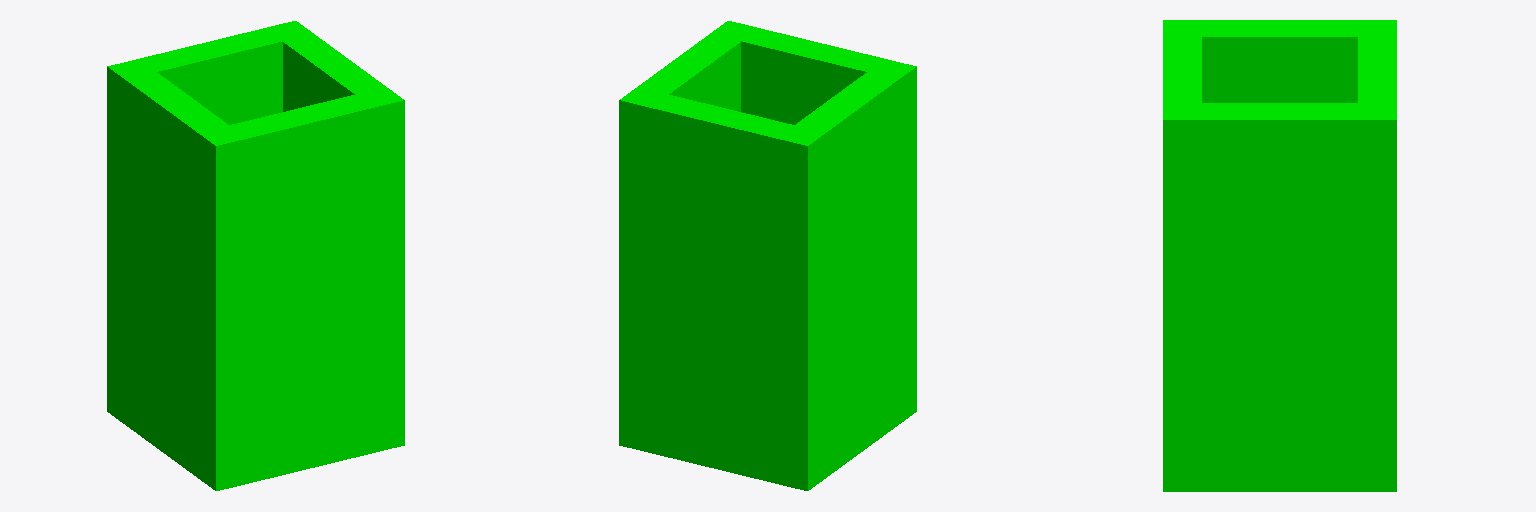
URDF robot description (root):
<?xml version="0.0" ?>
<robot name="root">
  <link name="base">
    <inertial>
      <origin rpy="0 0 0" xyz="0 0 0"/>
      <mass value="0.001"/>
      <inertia ixx="-4.46E-06" ixy="-4.55E-07" ixz="1.95E-06" iyy="-2.47E-06" iyz="8.51E-08" izz="2.17E-06"/>
    </inertial>
    <visual>
      <origin rpy="0 0 0" xyz="0 0 -0.05"/>
      <geometry>
        <box size=".06 .06 0.01"/>
      </geometry>
      <material name="green">
      </material> 
    </visual>
    <collision>
      <origin rpy="0 0 0" xyz="0 0 -0.05"/>
      <geometry>
        <box size=".06 .06 0.01"/>
      </geometry>
    </collision>
  </link>

  <link name="left">
    <inertial>
      <origin rpy="0 0 0" xyz="0 0 0"/>
      <mass value="0.001"/>
      <inertia ixx="-4.46E-06" ixy="-4.55E-07" ixz="1.95E-06" iyy="-2.47E-06" iyz="8.51E-08" izz="2.17E-06"/>
    </inertial>
    <visual>
      <origin rpy="0 0 0" xyz="0.025 0.0 0"/>
      <geometry>
        <box size=".01 .06 0.1"/>
      </geometry>
      <material name="green">
      </material> 
    </visual>
    <collision>
      <origin rpy="0 0 0" xyz="0 0 0"/>
      <geometry>
        <box size=".01 .06 0.1"/>
      </geometry>
    </collision>
  </link>

  <joint name="left_joint" type="fixed">
    <origin rpy="0 0 0" xyz="0 0 0"/>
    <parent link="base"/>
    <child link="left"/>
  </joint>

  <link name="right">
    <inertial>
      <origin rpy="0 0 0" xyz="0 0 0"/>
      <mass value="0.001"/>
      <inertia ixx="-4.46E-06" ixy="-4.55E-07" ixz="1.95E-06" iyy="-2.47E-06" iyz="8.51E-08" izz="2.17E-06"/>
    </inertial>
    <visual>
      <origin rpy="0 0 0" xyz="-0.025 0.0 0"/>
      <geometry>
        <box size=".01 .06 0.1"/>
      </geometry>
      <material name="green">
      </material> 
    </visual>
    <collision>
      <origin rpy="0 0 0" xyz="-0.025 0 0"/>
      <geometry>
        <box size=".01 .06 0.1"/>
      </geometry>
    </collision>
  </link>

  <joint name="right_joint" type="fixed">
    <origin rpy="0 0 0" xyz="0 0 0"/>
    <parent link="base"/>
    <child link="right"/>
  </joint>

  <link name="front">
    <inertial>
      <origin rpy="0 0 0" xyz="0 0 0"/>
      <mass value="0.001"/>
      <inertia ixx="-4.46E-06" ixy="-4.55E-07" ixz="1.95E-06" iyy="-2.47E-06" iyz="8.51E-08" izz="2.17E-06"/>
    </inertial>
    <visual>
      <origin rpy="0 0 0" xyz="0 0.025 0"/>
      <geometry>
        <box size=".06 .01 0.1"/>
      </geometry>
      <material name="green">
      </material> 
    </visual>
    <collision>
      <origin rpy="0 0 0" xyz="0 0.025 0"/>
      <geometry>
        <box size=".06 .01 0.1"/>
      </geometry>
    </collision>
  </link>

  <joint name="front_joint" type="fixed">
    <origin rpy="0 0 0" xyz="0 0 0"/>
    <parent link="base"/>
    <child link="front"/>
  </joint>

  <link name="rear">
    <inertial>
      <origin rpy="0 0 0" xyz="0 0 0"/>
      <mass value="0.001"/>
      <inertia ixx="-4.46E-06" ixy="-4.55E-07" ixz="1.95E-06" iyy="-2.47E-06" iyz="8.51E-08" izz="2.17E-06"/>
    </inertial>
    <visual>
      <origin rpy="0 0 0" xyz="0 -0.025 0"/>
      <geometry>
        <box size=".06 .01 0.1"/>
      </geometry>
      <material name="green">
      </material> 
    </visual>
    <collision>
      <origin rpy="0 0 0" xyz="0 -0.025 0"/>
      <geometry>
        <box size=".06 .01 0.1"/>
      </geometry>
    </collision>
  </link>

  <joint name="rear_joint" type="fixed">
    <origin rpy="0 0 0" xyz="0 0 0"/>
    <parent link="base"/>
    <child link="rear"/>
  </joint>


  <material name="panda_white">
    <color rgba="1. 1. 1. 1."/>
  </material>
  <material name="red">
    <color rgba="1.0 0. 0. 1.0"/>
  </material>
  <material name="blue">
    <color rgba="0. 0. 1. 1.0"/>
  </material>
  <material name="green">
    <color rgba="0. 1. 0. 1.0"/>
  </material>
<material name="Yellow">
  <color rgba="0.949 0.878 0.0392 1.0"/>
</material>
<material name="Blue">
  <color rgba="0.12156 0.3804 0.6745 1.0"/>
</material>
<material name="Red">
  <color rgba="0.9254901 0.243137 0.086274509 1.0"/>
</material>


</robot>

--- Facts derived from the render (not from the file) ---
Views: 3 orthographic renders of the robot side by side, from view 1: azimuth 30°, elevation 25°; view 2: azimuth 150°, elevation 25°; view 3: azimuth 270°, elevation 25°.
Model root with 5 links and 4 joints (4 fixed), rooted at base, posed all joints at 0.
Links seen in each view (by area): view 1: rear, right, front, left, base; view 2: front, right, rear, left, base; view 3: left, right, front, rear, base.
Boxes of the visible links, x1=… form: rear: x1=198, y1=90, x2=404, y2=470; right: x1=107, y1=63, x2=247, y2=472; front: x1=107, y1=21, x2=313, y2=406; left: x1=283, y1=21, x2=404, y2=435; base: x1=107, y1=379, x2=404, y2=490; front: x1=619, y1=93, x2=825, y2=471; right: x1=776, y1=61, x2=916, y2=472; rear: x1=710, y1=21, x2=916, y2=407; left: x1=619, y1=21, x2=740, y2=435; base: x1=619, y1=380, x2=916, y2=490; left: x1=1163, y1=103, x2=1396, y2=473; right: x1=1163, y1=20, x2=1396, y2=102; front: x1=1358, y1=21, x2=1396, y2=472; rear: x1=1163, y1=20, x2=1201, y2=472; base: x1=1163, y1=456, x2=1396, y2=491.
Size in the robot's own frame: 0.06 by 0.06 by 0.105 metres.
Geometry: primitives only (box / cylinder / sphere), no mesh files.